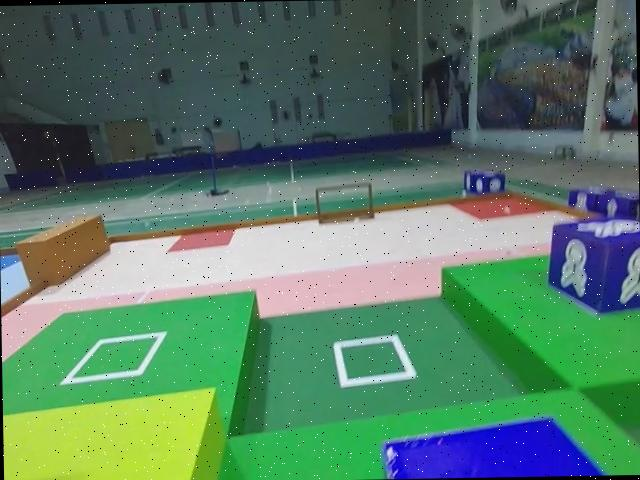R2 Real Blue: (544, 216, 640, 317), (569, 186, 640, 223)
